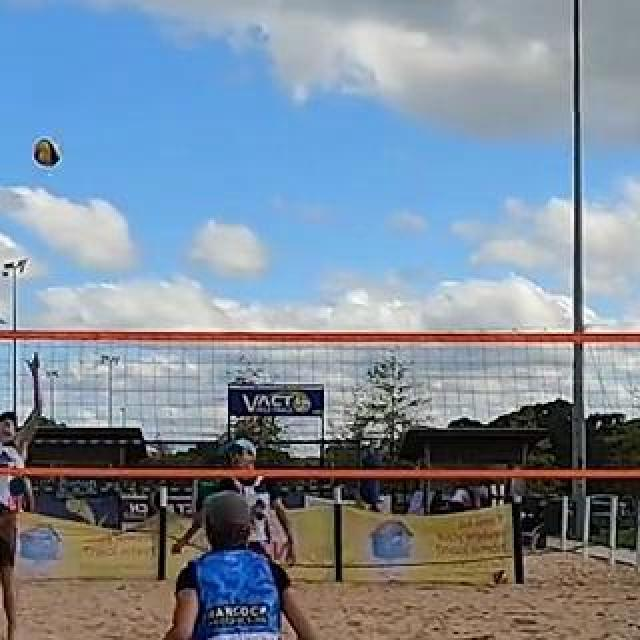volleyball: (34, 142, 62, 168), (493, 568, 509, 586)
